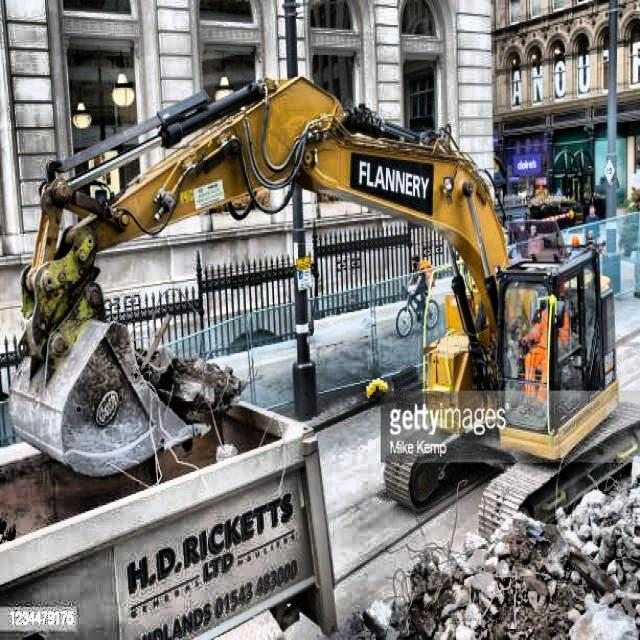excavator: (20, 71, 640, 532)
